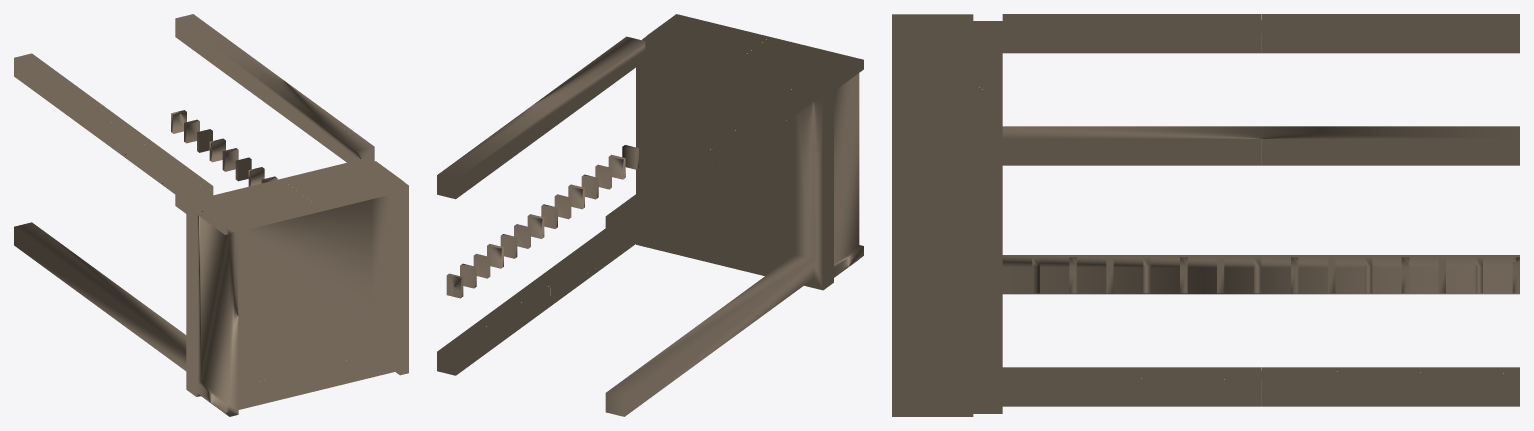
File: watchtower.glb
The picture shows the model from 3 angles, left to right: view 1: azimuth 30°, elevation 25°; view 2: azimuth 150°, elevation 25°; view 3: azimuth 270°, elevation 25°; orthographic projection. The views are drawn at different scales.
Parts seen in each view (by area): view 1: watchtower; view 2: watchtower; view 3: watchtower.
Boxes of the visible parts, x1=… form: watchtower: x1=14, y1=14, x2=408, y2=416; watchtower: x1=437, y1=14, x2=863, y2=416; watchtower: x1=892, y1=14, x2=1519, y2=416.
Size of the model in its own units: 4.2 by 4.2 by 8.5.
